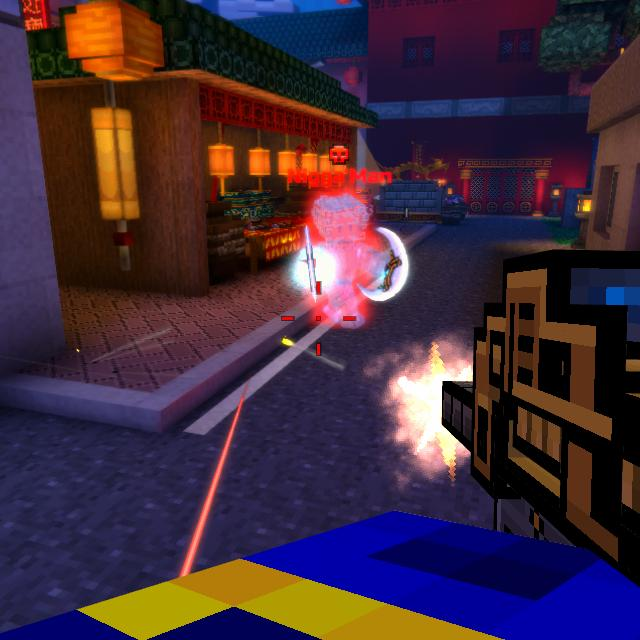Enemy: (312, 196, 386, 330)
